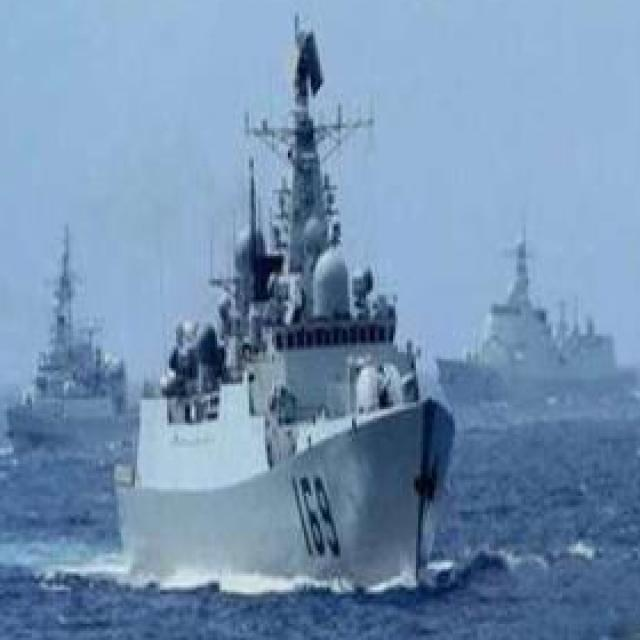navalvessels: (103, 24, 452, 610), (427, 234, 634, 406), (0, 233, 126, 441)
